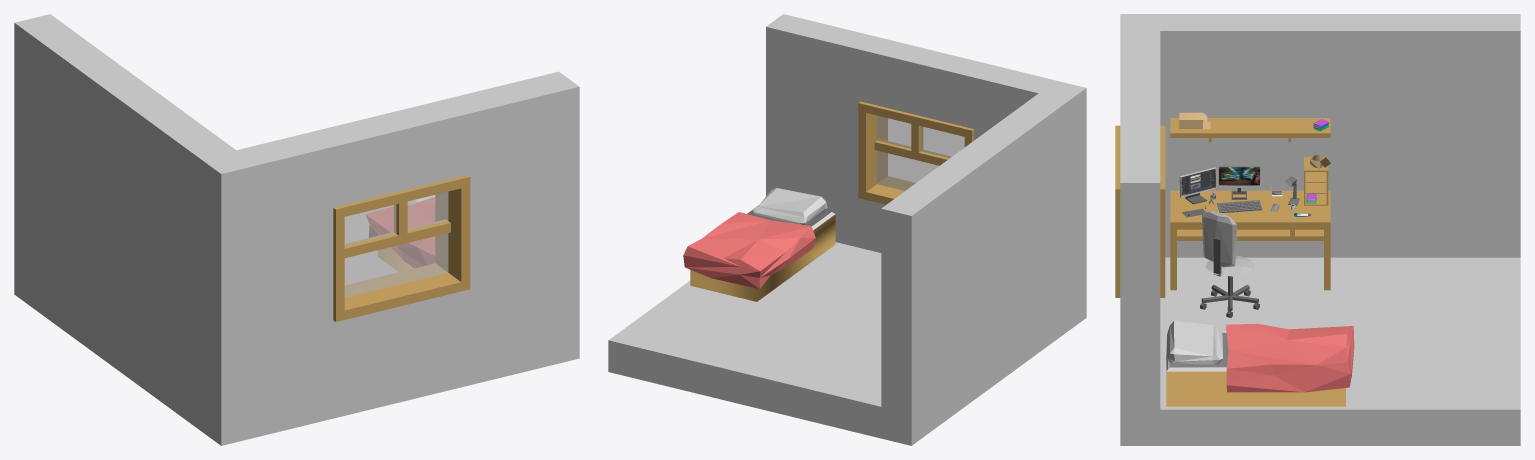
File: isometric_room.glb
The picture shows the model from 3 angles, left to right: view 1: azimuth 30°, elevation 25°; view 2: azimuth 150°, elevation 25°; view 3: azimuth 270°, elevation 25°; orthographic projection. The views are drawn at different scales.
Visible parts, largest first — view 1: Room_2, Glass, Frame, Hole_2, Cube_1, Cube_13; view 2: Room_2, Cube_1, Glass, Cube, Frame, Hole_2, Cube_2, Cube_13; view 3: Room_2, Cube_1, Table_4, Cube, Table_1, Cube_2, Frame, Capsule, Table_2_2, Cube_3, Cube_4, Sphere (+2 smaller).
Boxes of the visible parts, x1,y1,x2,y2 form: Room_2: [14, 14, 579, 445]; Glass: [344, 192, 448, 297]; Frame: [333, 175, 470, 321]; Hole_2: [344, 188, 461, 310]; Cube_1: [366, 197, 434, 267]; Cube_13: [344, 219, 450, 257]; Room_2: [608, 14, 1086, 445]; Cube_1: [683, 212, 815, 288]; Glass: [877, 115, 964, 190]; Cube: [690, 205, 835, 301]; Frame: [858, 101, 974, 204]; Hole_2: [866, 113, 915, 198]; Cube_2: [752, 188, 827, 224]; Cube_13: [874, 139, 951, 165]; Room_2: [1120, 14, 1520, 445]; Cube_1: [1226, 323, 1354, 392]; Table_4: [1170, 190, 1330, 290]; Cube: [1166, 333, 1345, 406]; Table_1: [1170, 118, 1330, 137]; Cube_2: [1167, 321, 1222, 364]; Frame: [1115, 125, 1165, 297]; Capsule: [1202, 211, 1236, 266]; Table_2_2: [1177, 229, 1323, 240]; Cube_3: [1219, 167, 1259, 185]; Cube_4: [1181, 169, 1215, 196]; Sphere: [1205, 255, 1255, 276].
Size of the model in its own units: 401 by 290 by 405.
Materials: 38 (3 with a texture image).
